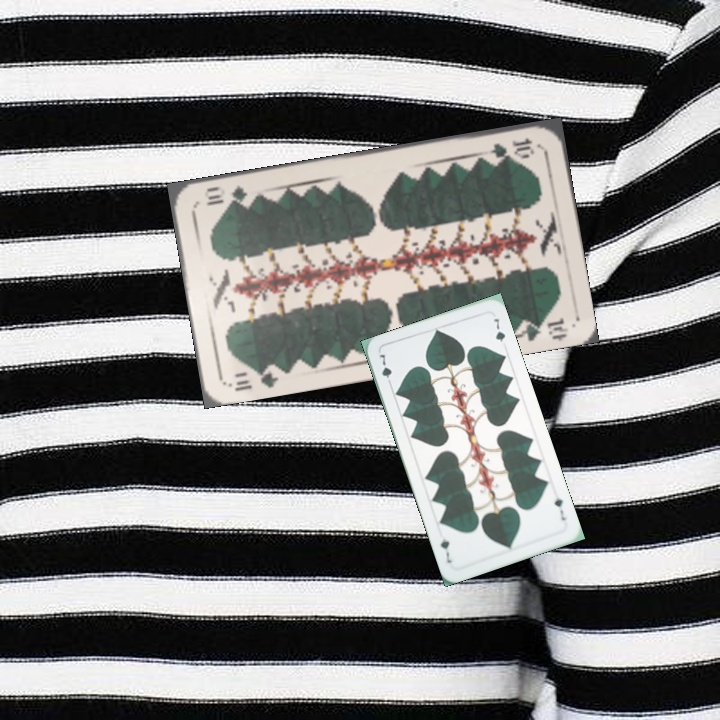G10: (225, 361, 283, 394), (480, 133, 537, 161)
G7: (374, 349, 394, 389), (550, 493, 568, 523)
